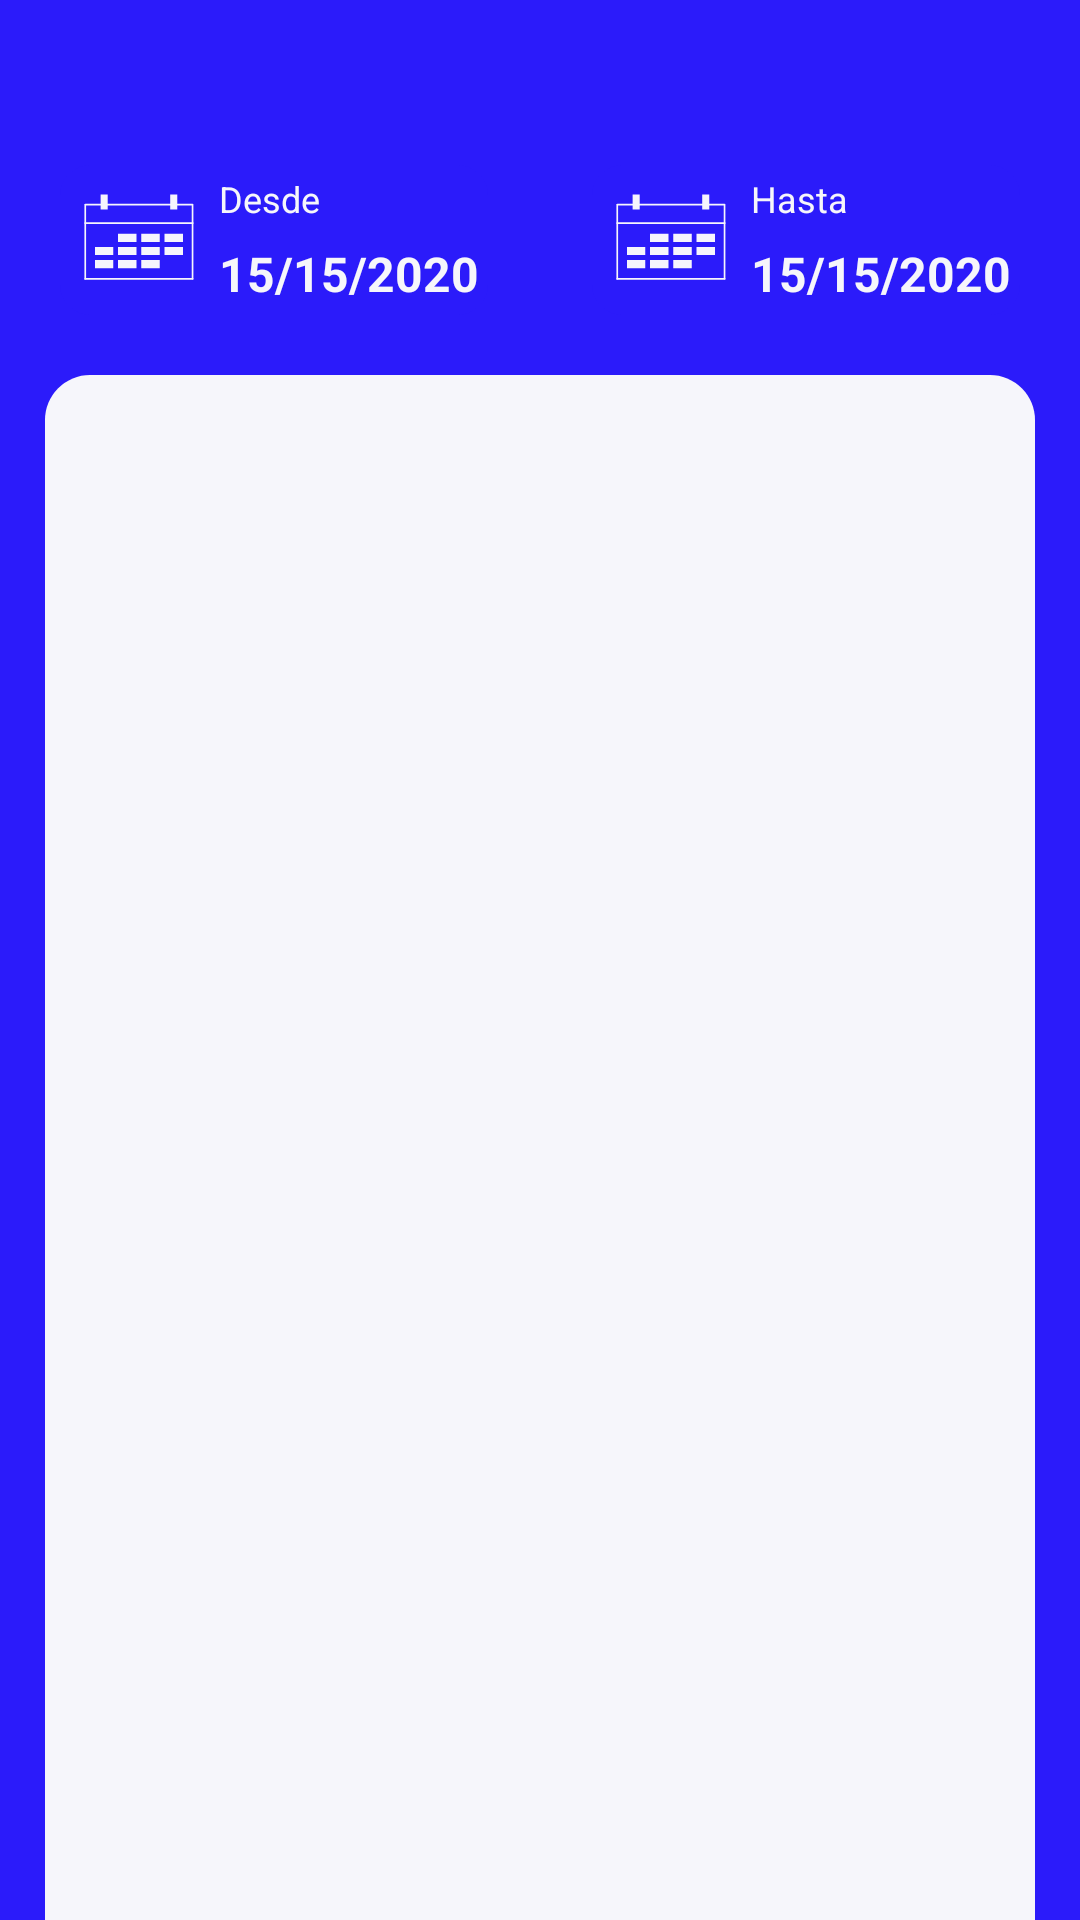

Point at icon controls on the screen. Image size 1080×1920, points as (x=x, y=y).
calendar report list filter: (x=139, y=237), (x=671, y=237)
